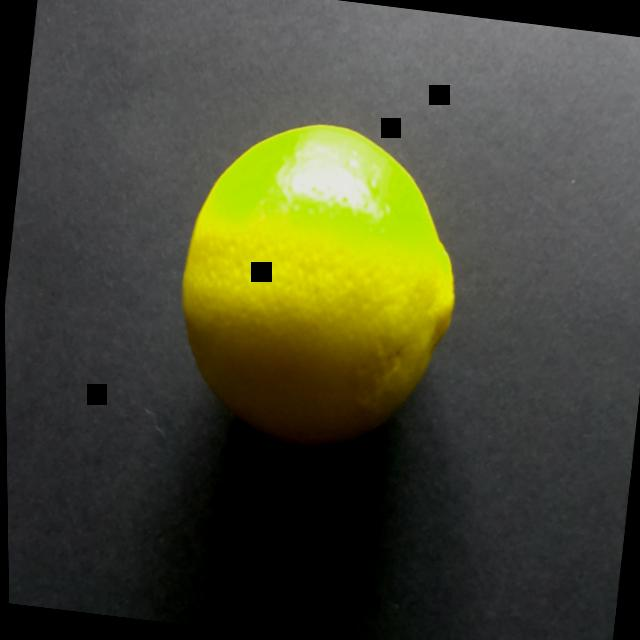Lemon: (137, 75, 511, 522)
